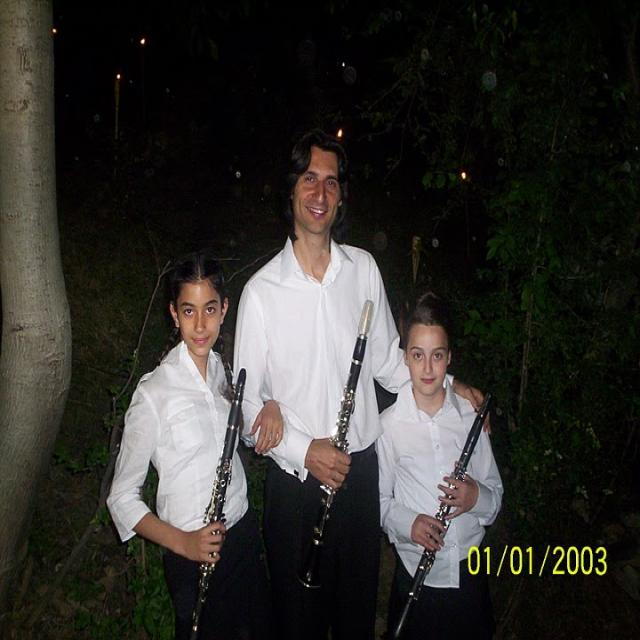clarinet: (388, 388, 500, 638), (298, 294, 377, 593), (188, 361, 254, 640)
